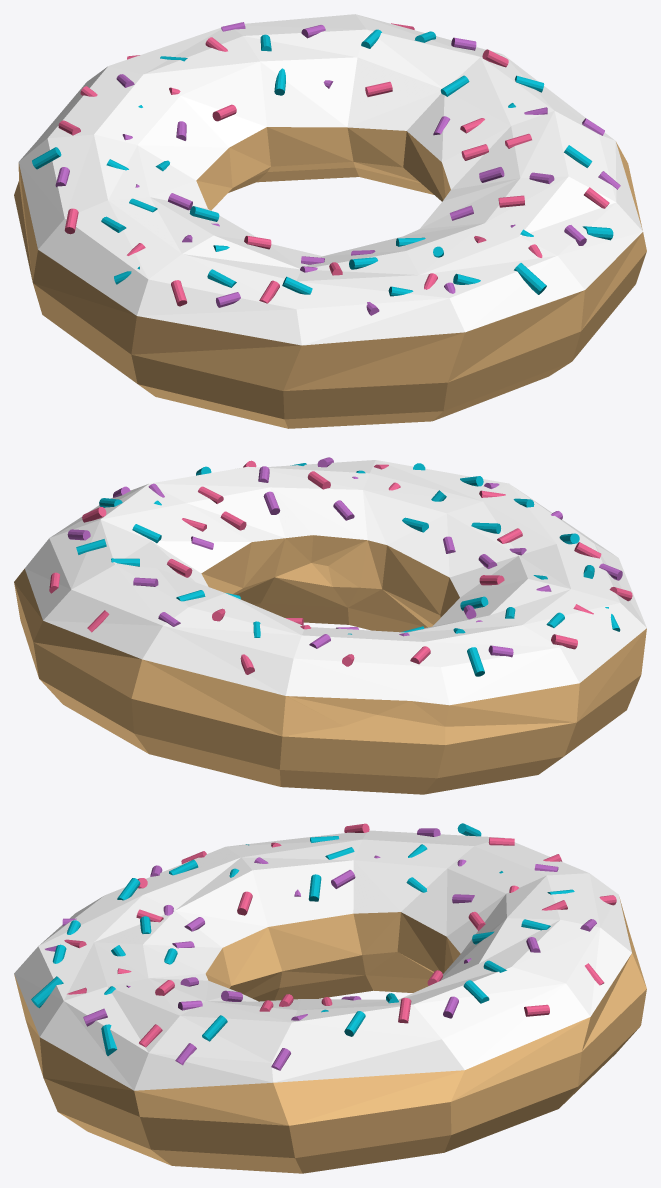
File: Vanillav2.obj
The picture shows the model from 3 angles, top to bottom: view 1: azimuth 30°, elevation 25°; view 2: azimuth 150°, elevation 25°; view 3: azimuth 270°, elevation 25°; orthographic projection.
Visible parts, largest first — view 1: group93197796; view 2: group93197796; view 3: group93197796.
Boxes of the visible parts, left/top/right/bottom form: group93197796: left=14, top=14, right=646, bottom=428; group93197796: left=14, top=457, right=646, bottom=794; group93197796: left=14, top=823, right=646, bottom=1173.
Bounding box in the file's own units: 0.5651 × 0.1992 × 0.572.
